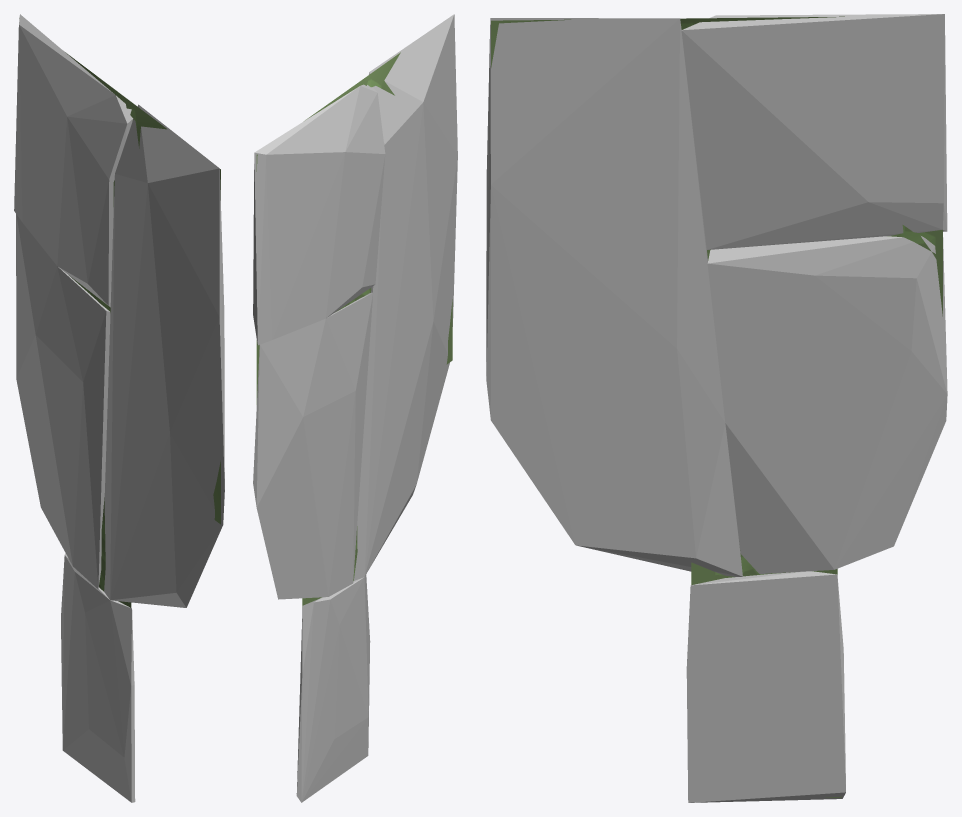
The model's file is SM_Env_Vines_Preset_Wall_02.fbx.
The picture shows the model from 3 angles, left to right: view 1: azimuth 30°, elevation 25°; view 2: azimuth 150°, elevation 25°; view 3: azimuth 270°, elevation 25°; orthographic projection. The views are drawn at different scales.
Visible parts, largest first — view 1: SM_Env_Vines_Preset_Wall_02_ConvexHulls, SM_Env_Vines_Preset_Wall_02; view 2: SM_Env_Vines_Preset_Wall_02_ConvexHulls, SM_Env_Vines_Preset_Wall_02; view 3: SM_Env_Vines_Preset_Wall_02_ConvexHulls, SM_Env_Vines_Preset_Wall_02.
Boxes of the visible parts, x1,y1,x2,y2 form: SM_Env_Vines_Preset_Wall_02_ConvexHulls: (14,14,224,802); SM_Env_Vines_Preset_Wall_02: (19,18,220,607); SM_Env_Vines_Preset_Wall_02_ConvexHulls: (253,14,457,802); SM_Env_Vines_Preset_Wall_02: (256,52,452,607); SM_Env_Vines_Preset_Wall_02_ConvexHulls: (486,14,947,802); SM_Env_Vines_Preset_Wall_02: (491,16,942,797).
Size of the model in its own units: 11.7 by 158 by 298.
Materials: 3 (2 with a texture image).
